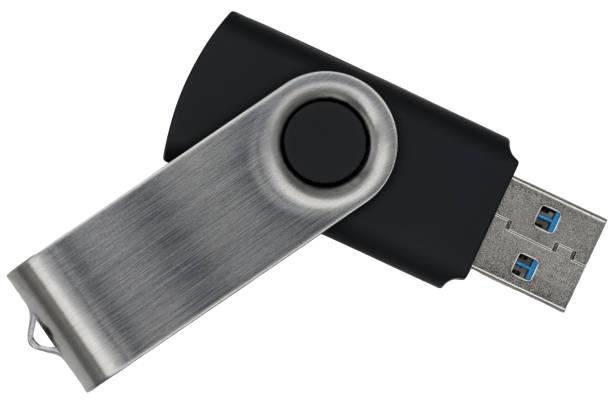USB Flash Drive: (164, 13, 606, 313)
